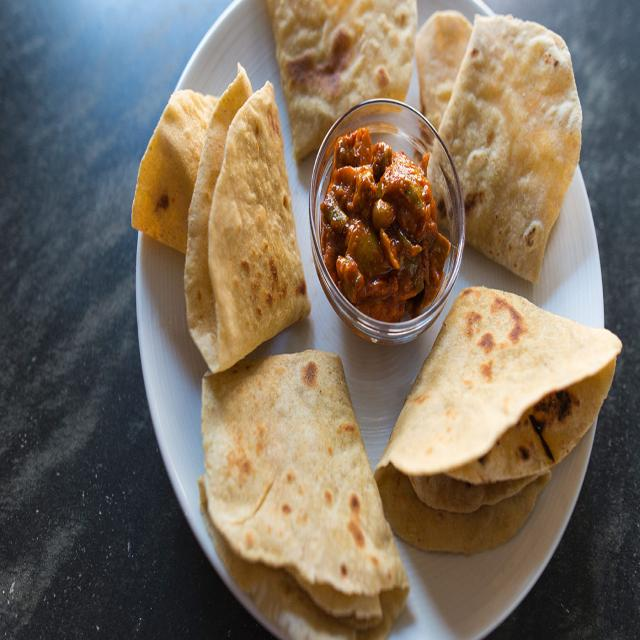chapati: (375, 281, 612, 588), (196, 364, 410, 628), (180, 57, 312, 373)
